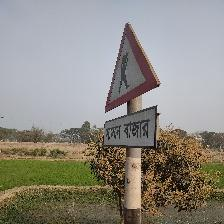Market-in-front: (102, 21, 161, 151)
